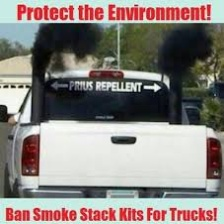smoke: (164, 24, 211, 104), (33, 25, 100, 80)
